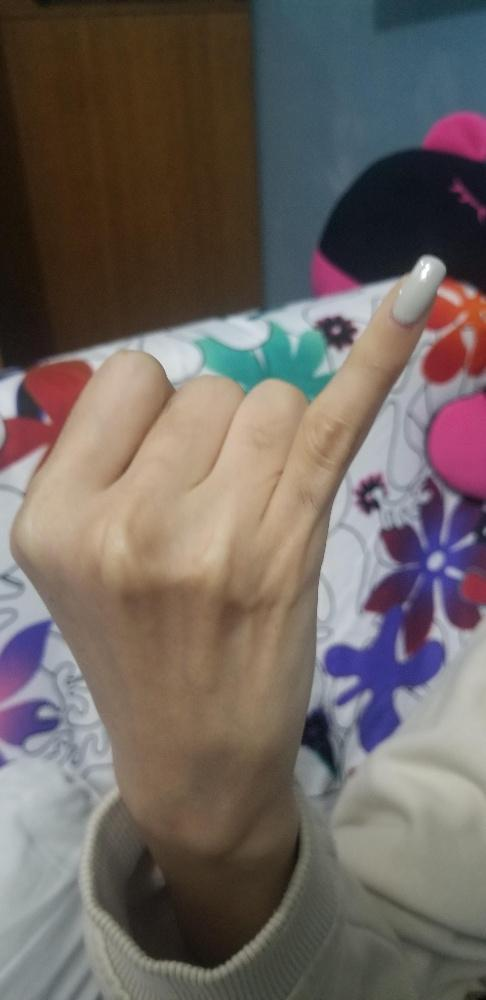j: (6, 251, 446, 840)
